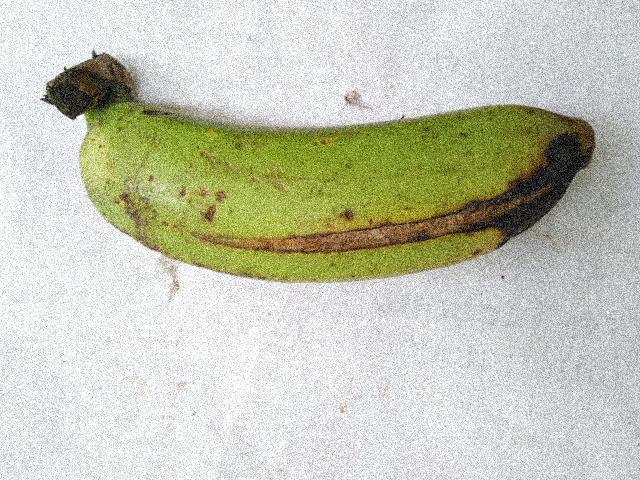rotten: (444, 116, 625, 278), (176, 206, 489, 273)
